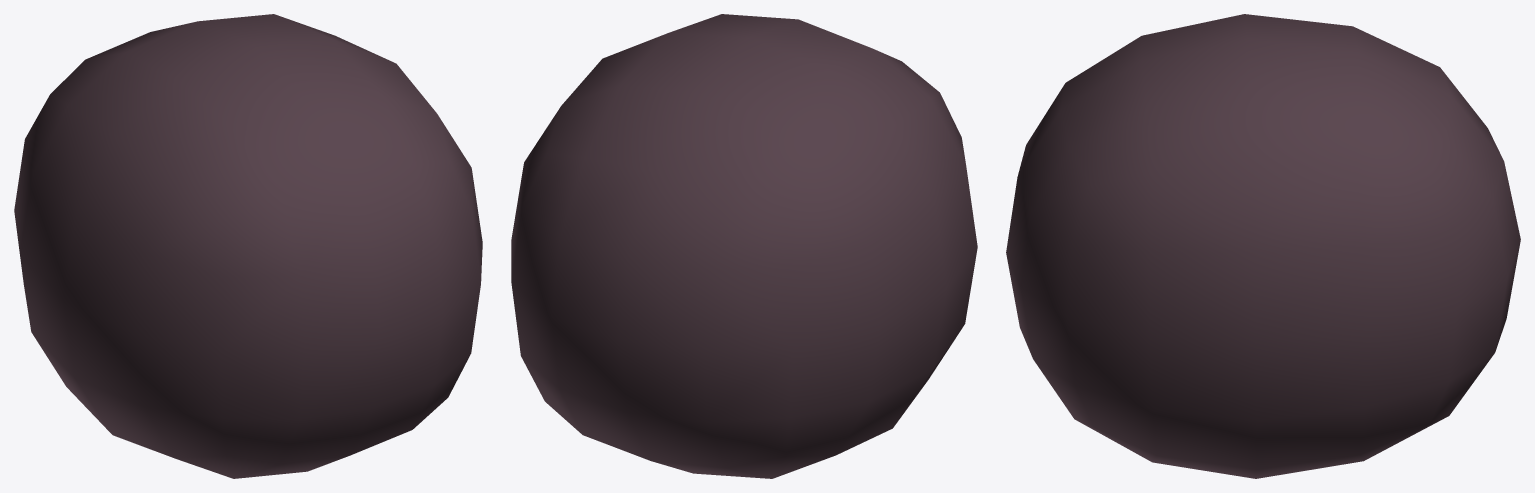
File: Grape_01.dae
The picture shows the model from 3 angles, left to right: view 1: azimuth 30°, elevation 25°; view 2: azimuth 150°, elevation 25°; view 3: azimuth 270°, elevation 25°; orthographic projection.
Visible parts, largest first — view 1: Grape_01_LOD0; view 2: Grape_01_LOD0; view 3: Grape_01_LOD0.
Part boxes in pixels (bbox=[...]): Grape_01_LOD0: bbox=[14, 14, 482, 478]; Grape_01_LOD0: bbox=[511, 14, 977, 478]; Grape_01_LOD0: bbox=[1006, 14, 1520, 478].
Size of what is drawn, in the model's own units: 1.48 by 1.66 by 1.47.
